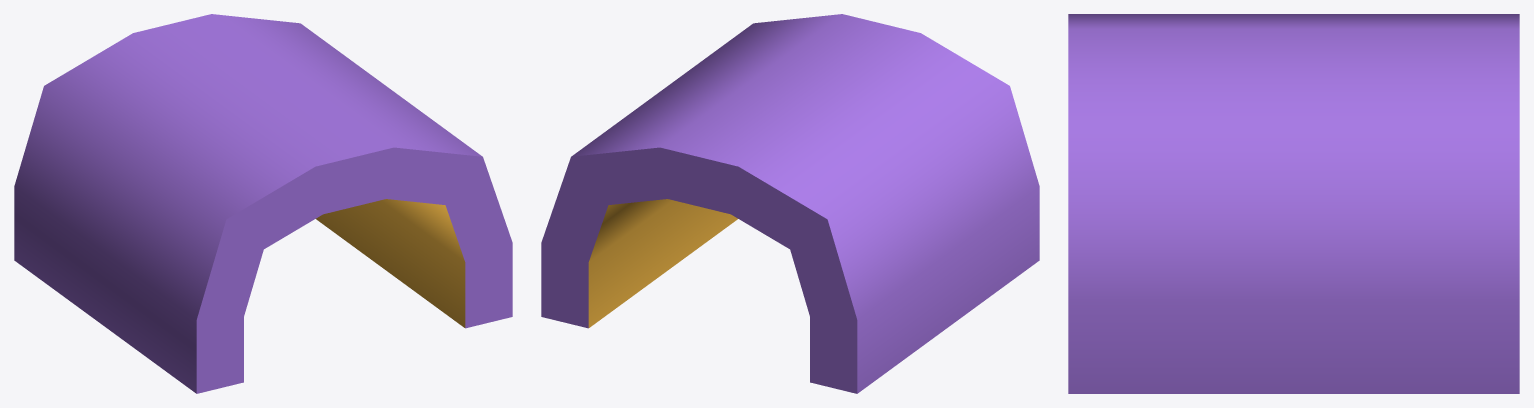
The model's file is tunnel-col.glb.
The picture shows the model from 3 angles, left to right: view 1: azimuth 30°, elevation 25°; view 2: azimuth 150°, elevation 25°; view 3: azimuth 270°, elevation 25°; orthographic projection. The views are drawn at different scales.
Parts seen in each view (by area): view 1: tunnel-col; view 2: tunnel-col; view 3: tunnel-col.
Part boxes in pixels (x1=…): tunnel-col: x1=14, y1=14, x2=512, y2=393; tunnel-col: x1=541, y1=14, x2=1039, y2=393; tunnel-col: x1=1068, y1=14, x2=1519, y2=393.
Bounding box in the file's own units: 1 × 0.6 × 1.
1 material, 1 textured.
